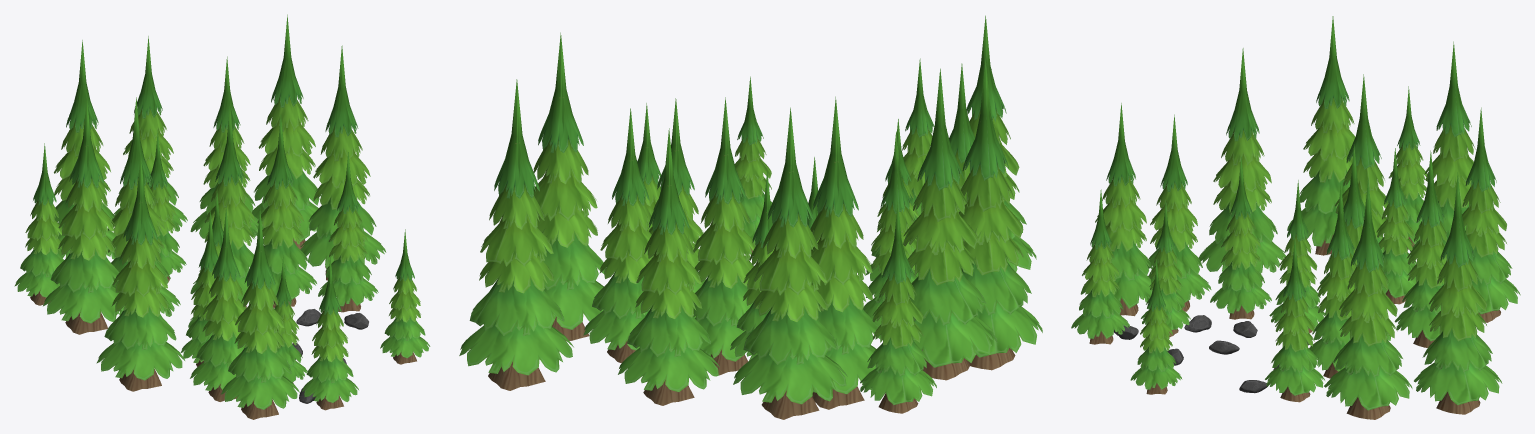
File: forest.glb
3 renders of one model, left to right at view 1: azimuth 30°, elevation 25°; view 2: azimuth 150°, elevation 25°; view 3: azimuth 270°, elevation 25°, orthographic. The views are drawn at different scales.
Parts seen in each view (by area): view 1: Tree11, Tree17, Tree10, Tree5, Tree20, Tree8, Tree2, Tree1, Tree9, Tree16, Tree4, Tree18 (+8 smaller); view 2: Tree20, Tree18, Tree17, Tree19, Tree5, Tree11, Tree13, Tree4, Tree14, Tree16, Tree7, Tree12 (+7 smaller); view 3: Tree20, Tree5, Tree17, Tree11, Tree19, Tree10, Tree14, Tree1, Tree7, Tree8, Tree18, Tree2 (+8 smaller).
Boxes of the visible parts, x1,y1,x2,y2 form: Tree11: [96, 153, 184, 391]; Tree17: [43, 97, 124, 334]; Tree10: [221, 208, 299, 419]; Tree5: [300, 45, 386, 280]; Tree20: [252, 14, 321, 249]; Tree8: [190, 206, 246, 401]; Tree2: [257, 114, 316, 307]; Tree1: [318, 152, 378, 312]; Tree9: [301, 257, 358, 410]; Tree16: [14, 143, 63, 305]; Tree4: [190, 104, 255, 307]; Tree18: [54, 40, 116, 259]; Tree20: [459, 79, 573, 390]; Tree18: [733, 107, 847, 419]; Tree17: [903, 68, 997, 380]; Tree19: [618, 128, 719, 405]; Tree5: [533, 32, 605, 341]; Tree11: [958, 58, 1042, 370]; Tree13: [810, 96, 880, 409]; Tree4: [693, 97, 755, 375]; Tree14: [583, 108, 654, 363]; Tree16: [860, 201, 936, 413]; Tree7: [863, 131, 917, 326]; Tree12: [734, 76, 773, 252]; Tree20: [1414, 172, 1502, 414]; Tree5: [1324, 177, 1412, 419]; Tree17: [1287, 16, 1355, 255]; Tree11: [1199, 48, 1285, 281]; Tree19: [1462, 107, 1520, 322]; Tree10: [1080, 103, 1152, 316]; Tree14: [1394, 150, 1447, 347]; Tree1: [1265, 238, 1324, 402]; Tree7: [1210, 156, 1271, 319]; Tree8: [1147, 114, 1211, 311]; Tree18: [1409, 41, 1475, 259]; Tree2: [1309, 183, 1356, 378].
Size of the model in its own units: 449 by 318 by 491.
Materials: 2 (2 with a texture image).
